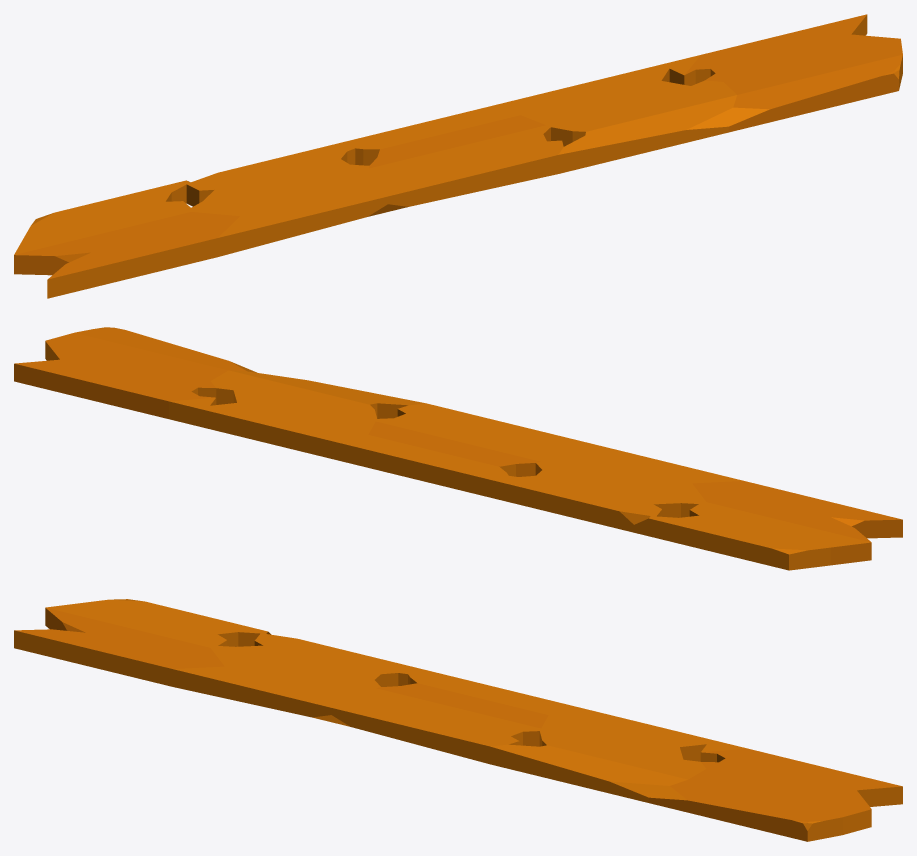
Rendered from Rotten wood_10.fbx.
3 renders of one model, top to bottom at view 1: azimuth 30°, elevation 25°; view 2: azimuth 150°, elevation 25°; view 3: azimuth 330°, elevation 25°, orthographic. The views are drawn at different scales.
Parts seen in each view (by area): view 1: Cube.085; view 2: Cube.085; view 3: Cube.085.
Boxes of the visible parts, bbox=[...] form: Cube.085: bbox=[14, 14, 902, 298]; Cube.085: bbox=[14, 327, 902, 570]; Cube.085: bbox=[14, 599, 902, 841].
Bounding box in the file's own units: 99.99 × 2.07 × 13.07.
